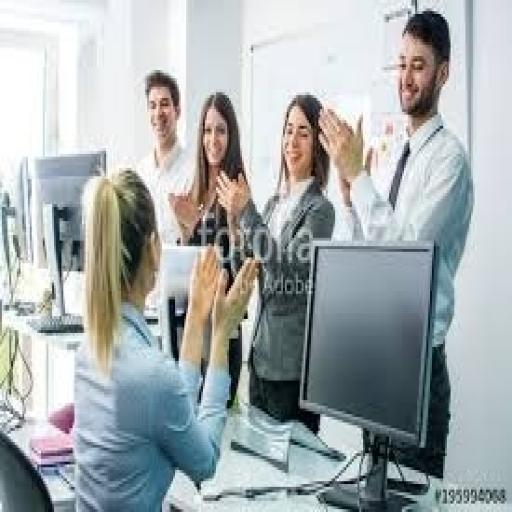clapping: (314, 6, 474, 478), (69, 165, 261, 509), (220, 90, 337, 434), (130, 67, 198, 246)
